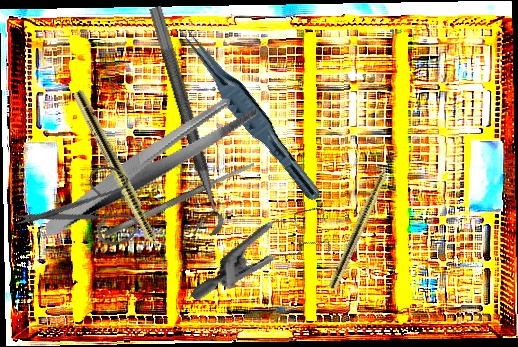Dressing Forceps: (24, 90, 274, 239)
Fixation Ring: (129, 5, 228, 241)
Handpiece: (69, 88, 176, 277), (327, 147, 401, 291)
Iris Scissors: (10, 138, 160, 289)
Spatula Surgical: (102, 160, 257, 239)
Speculum: (190, 173, 346, 345)
Tissue Forceps: (168, 21, 333, 205)
